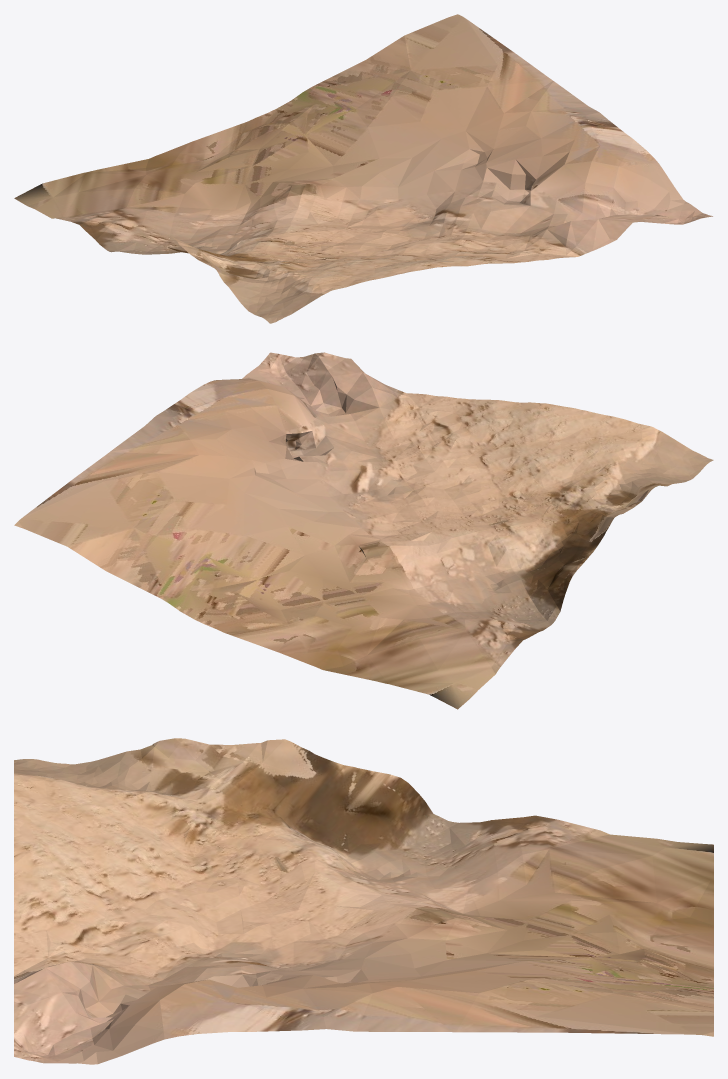
The picture shows the model from 3 angles, top to bottom: view 1: azimuth 30°, elevation 25°; view 2: azimuth 150°, elevation 25°; view 3: azimuth 270°, elevation 25°; orthographic projection. The views are drawn at different scales.
Bounding box in the file's own units: 1.04 × 0.1917 × 1.04.
Materials: 2 (2 with a texture image).
